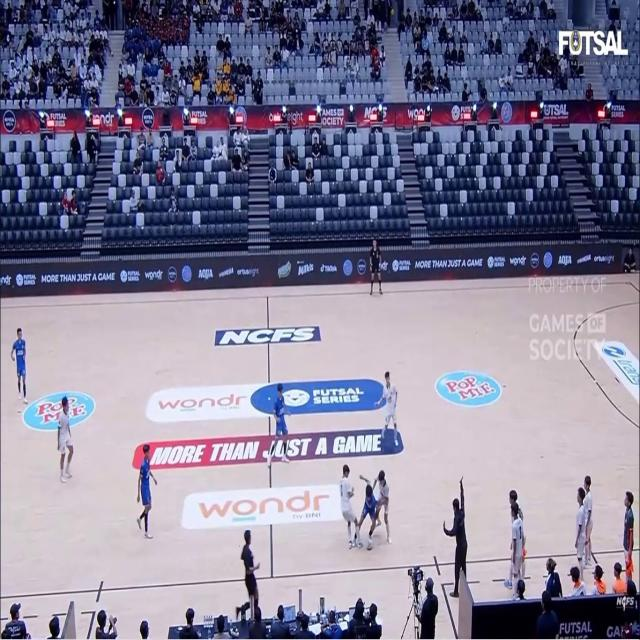referee: (241, 530, 260, 619), (370, 239, 382, 294)
